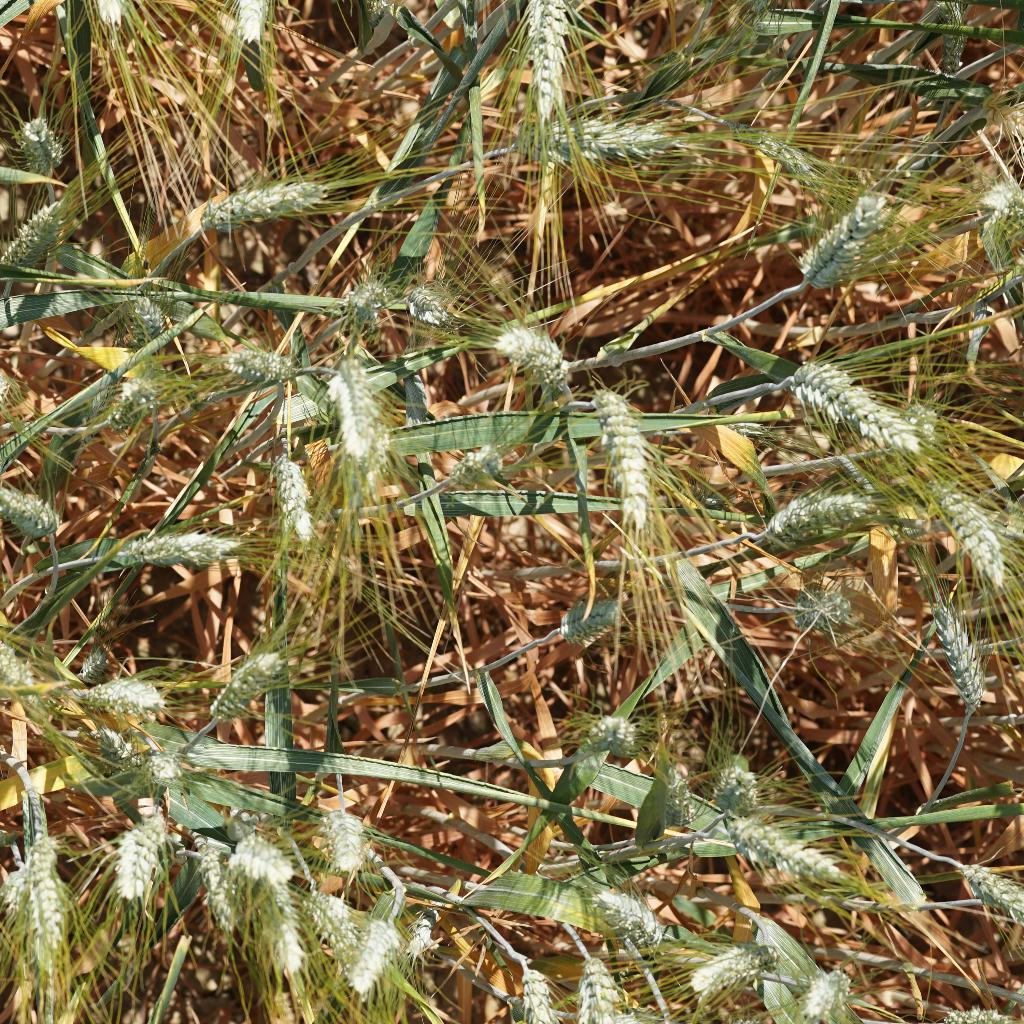0-0: (776, 351, 929, 456), (766, 171, 878, 298), (518, 89, 683, 169), (713, 810, 852, 894), (590, 381, 669, 527), (191, 180, 360, 239), (922, 489, 1020, 590), (0, 859, 78, 982), (512, 0, 580, 141), (744, 479, 882, 544), (204, 645, 305, 731), (104, 511, 239, 575), (679, 920, 778, 1002), (322, 357, 391, 471), (489, 311, 578, 399), (931, 598, 998, 713), (343, 907, 408, 1009), (75, 665, 172, 733), (250, 870, 307, 985), (538, 576, 635, 643), (269, 453, 328, 557), (937, 848, 1024, 918), (500, 950, 580, 1024), (589, 873, 664, 950), (101, 815, 165, 904), (301, 875, 369, 957), (186, 836, 240, 937), (114, 729, 200, 791), (928, 0, 981, 97), (111, 286, 191, 347), (3, 101, 67, 176), (0, 194, 67, 264), (702, 740, 772, 806), (112, 373, 187, 434), (335, 272, 392, 351), (449, 434, 514, 503), (223, 329, 298, 387), (231, 834, 305, 892), (578, 695, 649, 755), (570, 946, 623, 1024), (0, 623, 48, 701), (224, 0, 290, 55), (798, 956, 852, 1023), (322, 813, 380, 875), (653, 761, 705, 829), (393, 284, 456, 339), (795, 576, 848, 641), (979, 185, 1024, 261), (0, 485, 62, 539), (10, 821, 58, 877), (74, 643, 107, 683)
